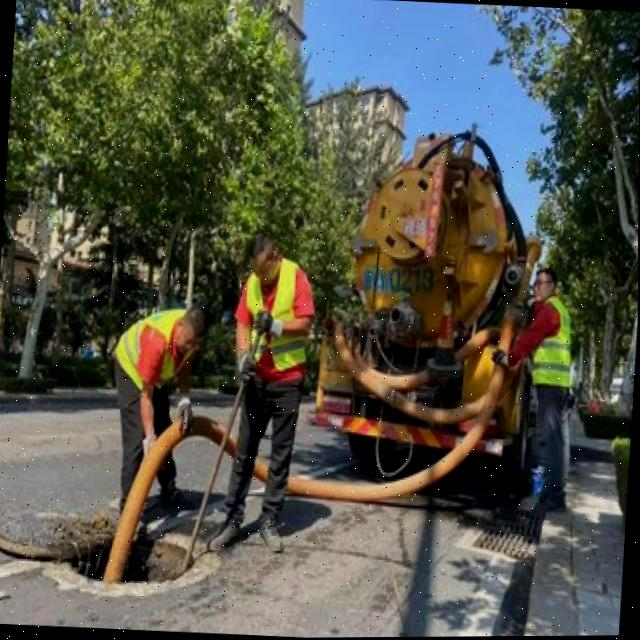manhole: (5, 500, 210, 594)
